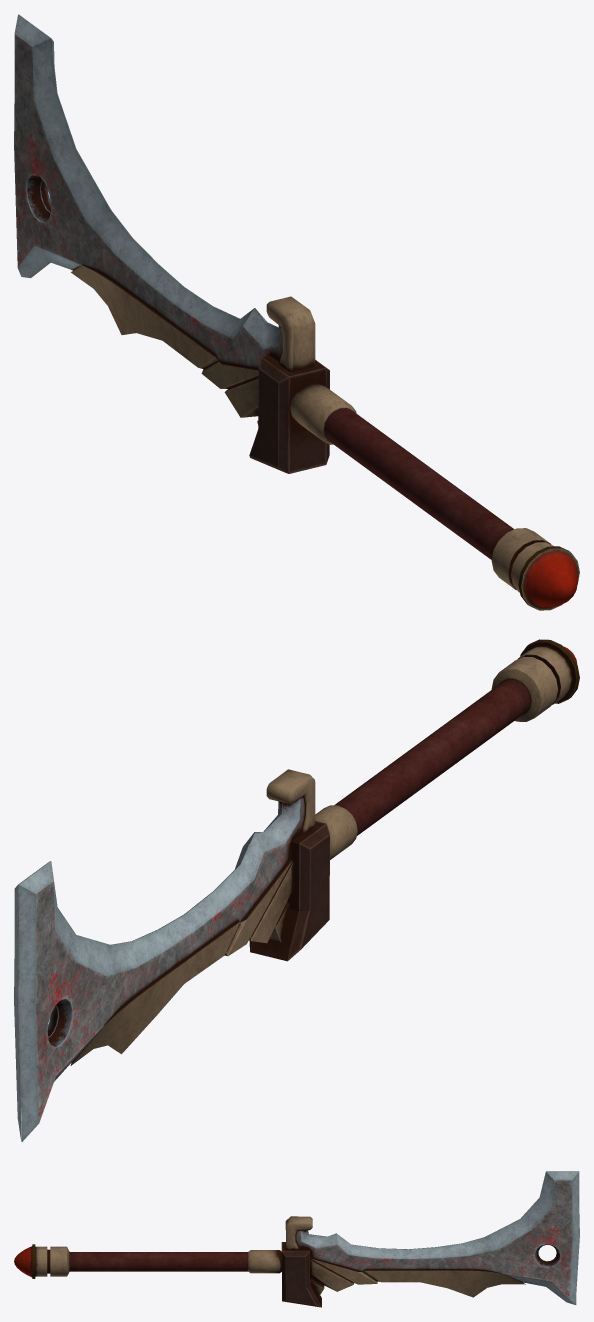
File: @props.fbx
3 renders of one model, top to bottom at view 1: azimuth 30°, elevation 25°; view 2: azimuth 150°, elevation 25°; view 3: azimuth 270°, elevation 25°, orthographic. The views are drawn at different scales.
Parts seen in each view (by area): view 1: Куб.001; view 2: Куб.001; view 3: Куб.001.
Part boxes in pixels (x1,y1,x2,y2): Куб.001: (14, 14, 579, 610); Куб.001: (14, 639, 579, 1141); Куб.001: (14, 1171, 579, 1307).
Bounding box in the file's own units: 13.29 × 56.23 × 216.
1 material, 1 textured.
